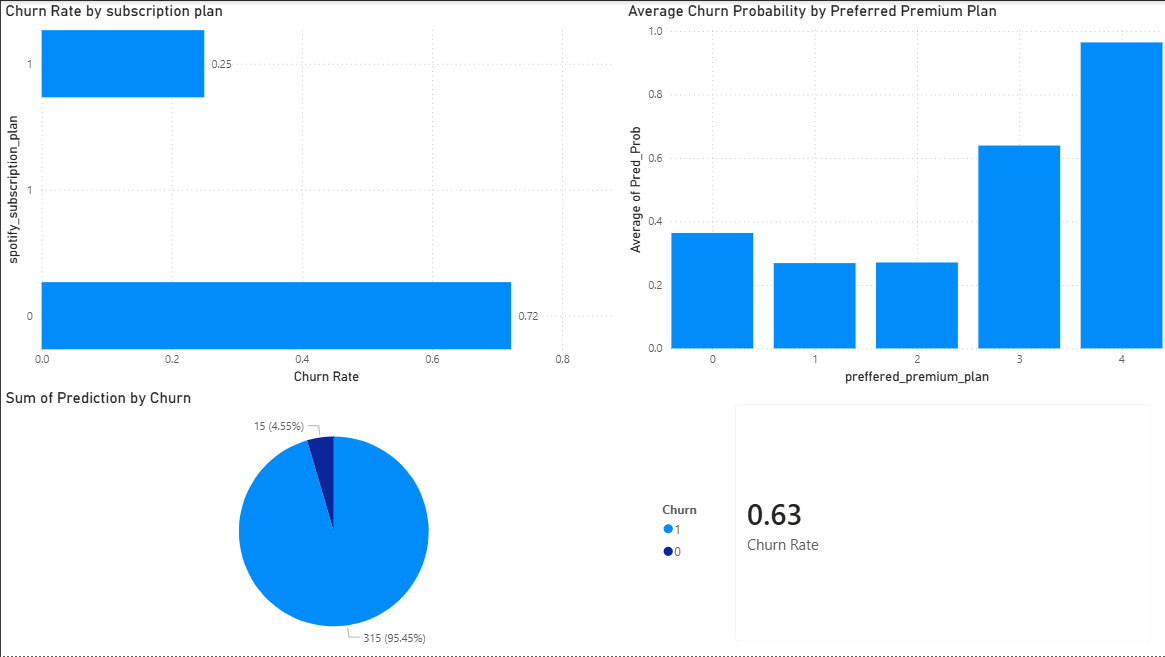

What the dashboard file says about the page in this screenshot:
{"tool":"powerbi","page":{"name":"Page 1","canvas":[1280,720],"ordinal":0},"visuals":[{"type":"cardVisual","fields":{"Data":["Spotify_churn_with_predictions.Churn Rate"]},"box":[789,425.4,491.3,295],"z":0},{"type":"clusteredBarChart","title":"Churn Rate by subscription plan","fields":{"Category":["Spotify_churn_with_predictions.spotify_subscription_plan"],"Y":["Spotify_churn_with_predictions.Churn Rate"]},"box":[0,0,683.4,425.4],"z":1000},{"type":"clusteredColumnChart","title":"Average Churn Probability by Preferred Premium Plan","fields":{"Category":["Spotify_churn_with_predictions.preffered_premium_plan"],"Y":["Avg(Spotify_churn_with_predictions.Pred_Prob)"]},"box":[683.4,0,596.9,425.4],"z":2000},{"type":"pieChart","fields":{"Category":["Spotify_churn_with_predictions.Churn"],"Y":["Sum(Spotify_churn_with_predictions.Prediction)"]},"box":[0,425.4,789,295],"z":3000}]}

Visuals, with their boxes in screenshot pixels (x1, y1, x2, y2), scaled from the page's 1280x720 canvas onto the 1165x657 screenshot:
cardVisual - Spotify_churn_with_predictions.Churn Rate: (718, 388, 1164, 656)
"Churn Rate by subscription plan" clusteredBarChart: (0, 0, 622, 388)
"Average Churn Probability by Preferred Premium Plan" clusteredColumnChart: (622, 0, 1164, 388)
pieChart - Spotify_churn_with_predictions.Churn x Sum(Spotify_churn_with_predictions.Prediction): (0, 388, 718, 656)
